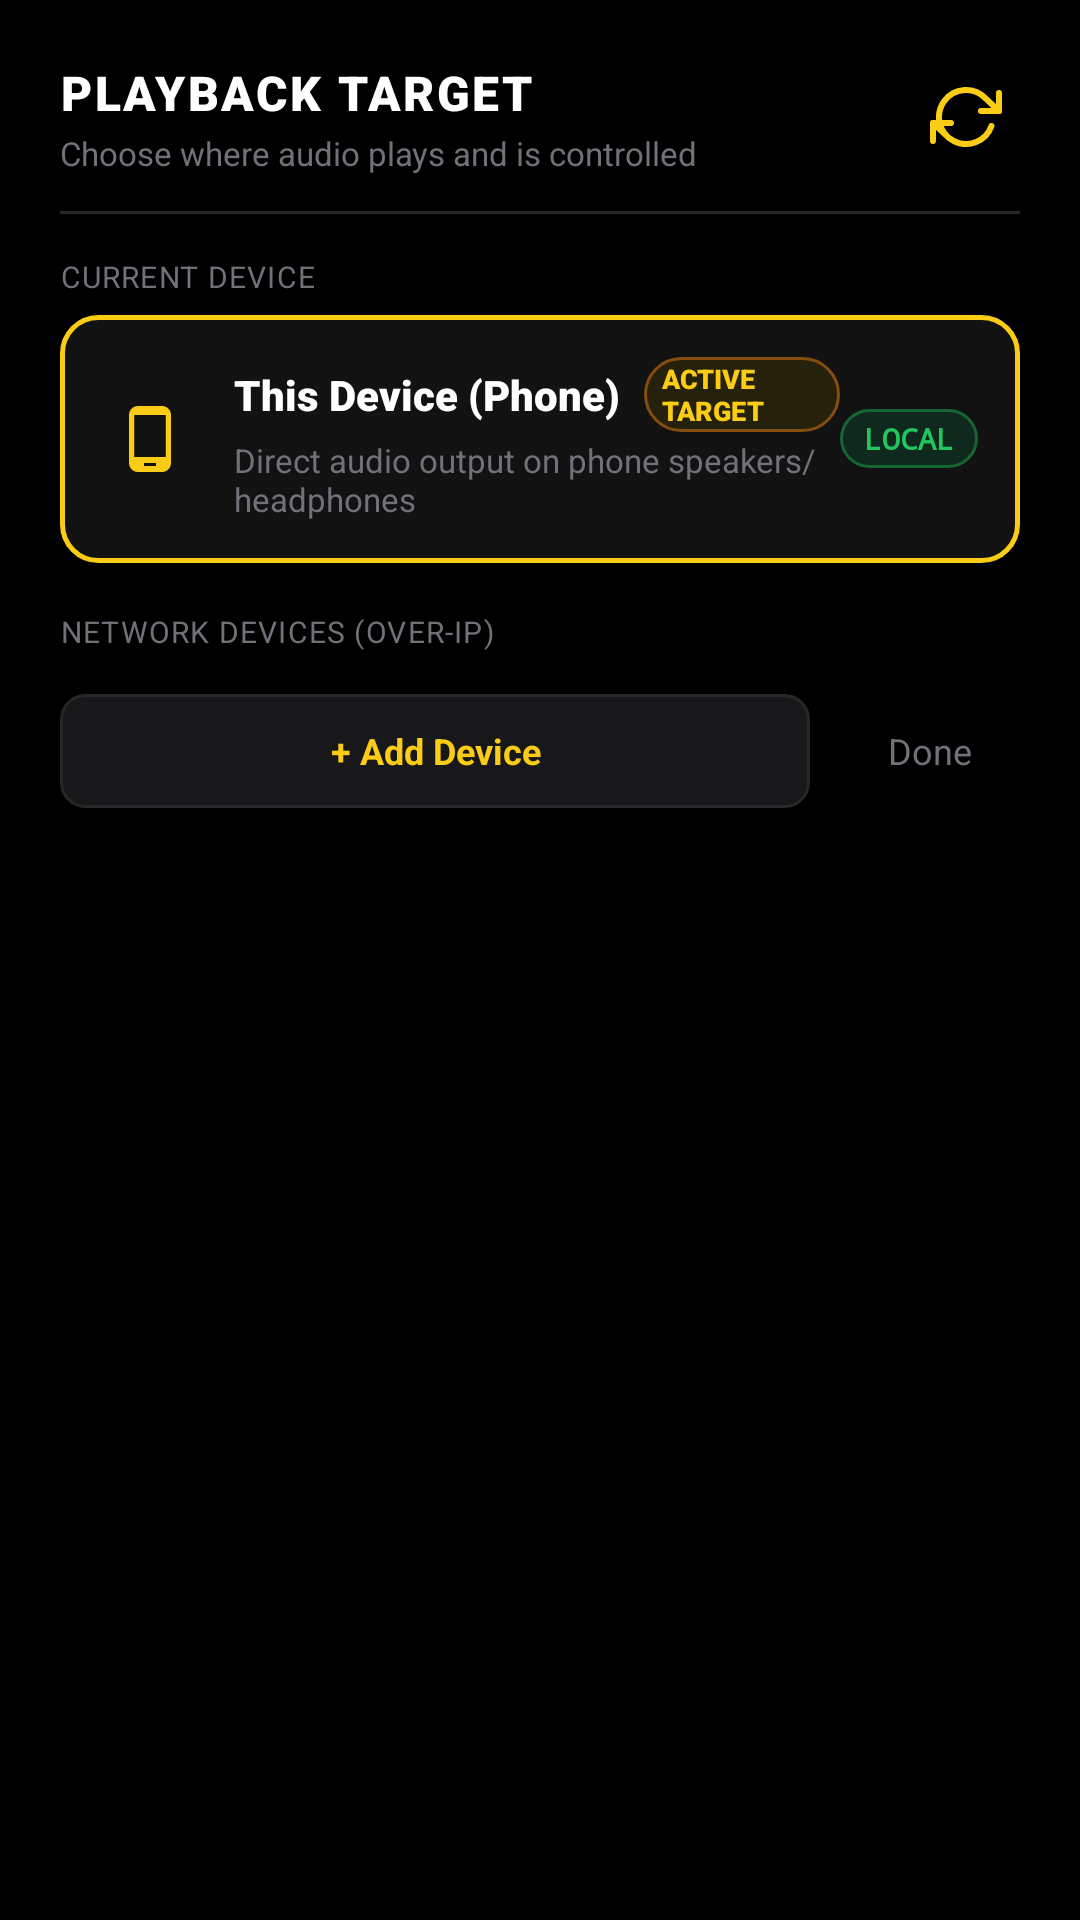

Icon click points for this 1080x1920 phone screenshot, format (x=x, y=y):
phone android: (x=150, y=439)
Refresh Devices: (x=966, y=117)
